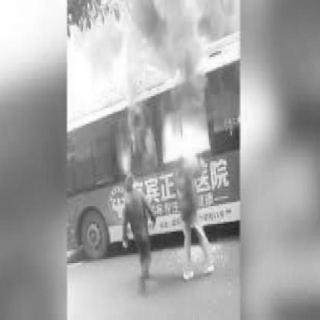Fire: (96, 104, 218, 180)
Smoke: (88, 5, 230, 86)
